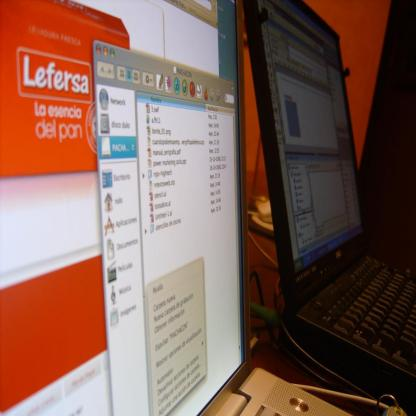board: (0, 0, 354, 415), (242, 0, 405, 413)
